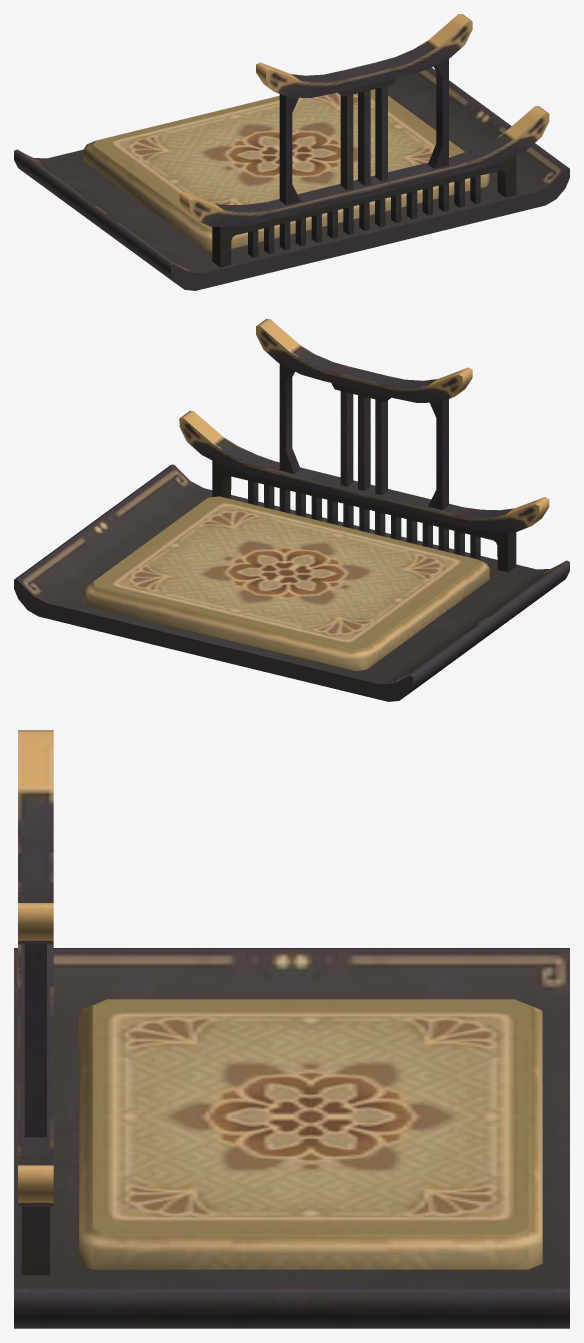
File: furniture-18157.glb
3 renders of one model, top to bottom at view 1: azimuth 30°, elevation 25°; view 2: azimuth 150°, elevation 25°; view 3: azimuth 270°, elevation 25°, orthographic. The views are drawn at different scales.
Bounding box in the file's own units: 0.7214 × 0.3493 × 0.4923.
Materials: 1 (1 with a texture image).
